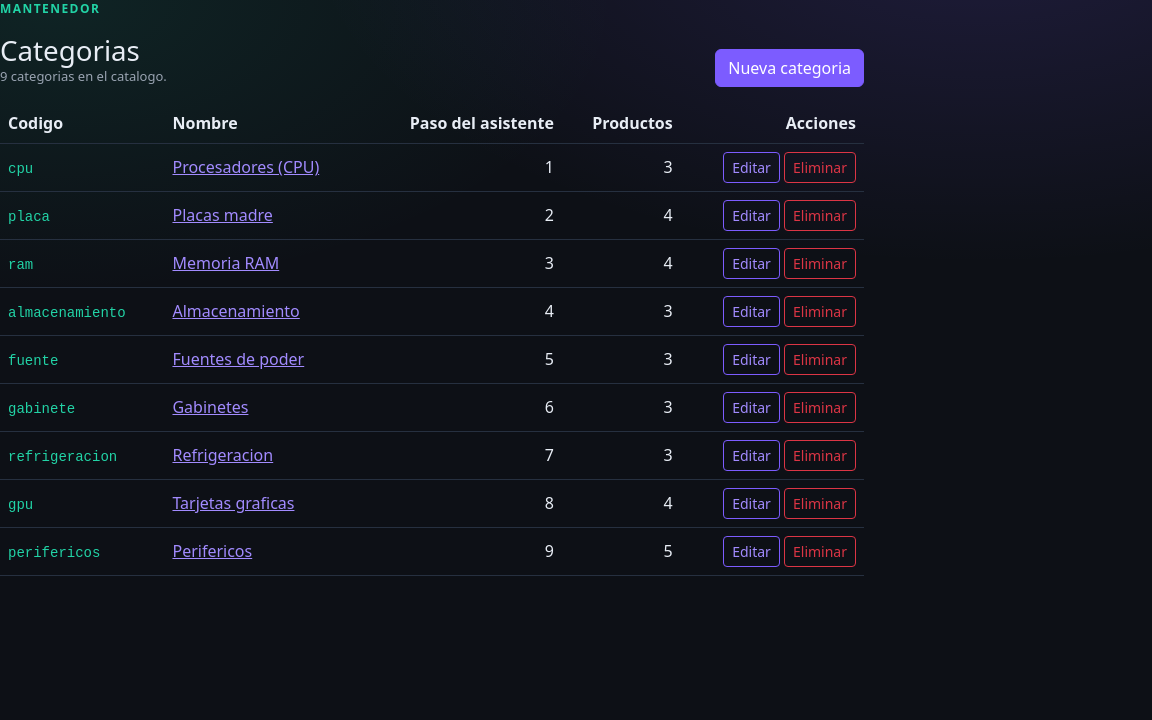
Test: admin / Categorias › eliminar (RF-25 CA4) › rechaza una categoria que es paso del asistente
Click the button "Eliminar" in the row of "Procesadores (CPU)": (820, 167) [784,152,856,183]
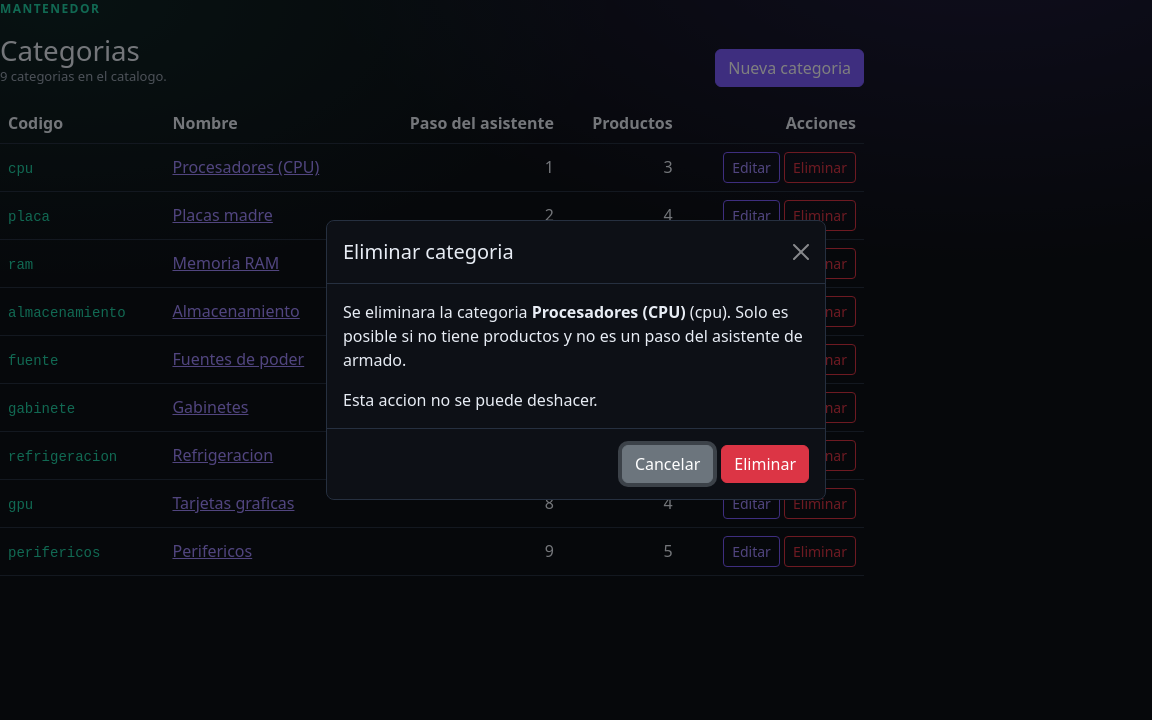
Click the button "Eliminar": (765, 464) [721,445,809,483]
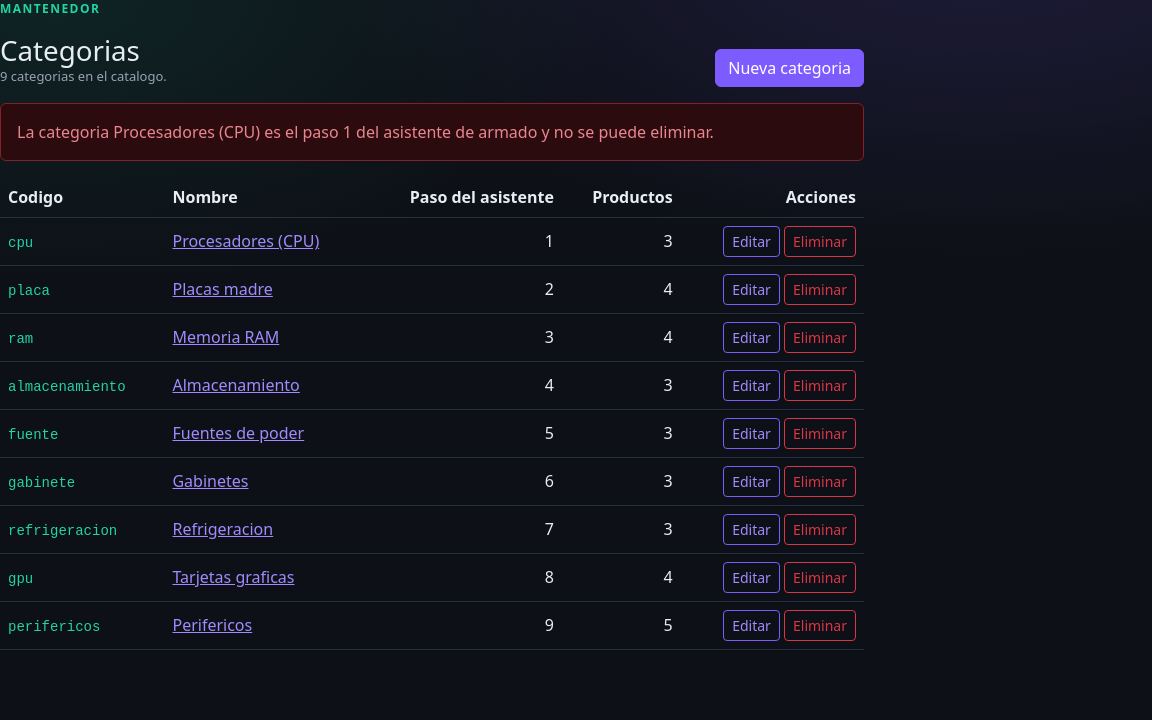
Now the message shows "es el paso 1 del asistente de armado y no se puede eliminar", box [17,121,714,143]
